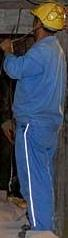boots: (18, 222, 31, 238)
hard-hat: (0, 66, 34, 128)
ppe-suit: (0, 0, 1, 2)
